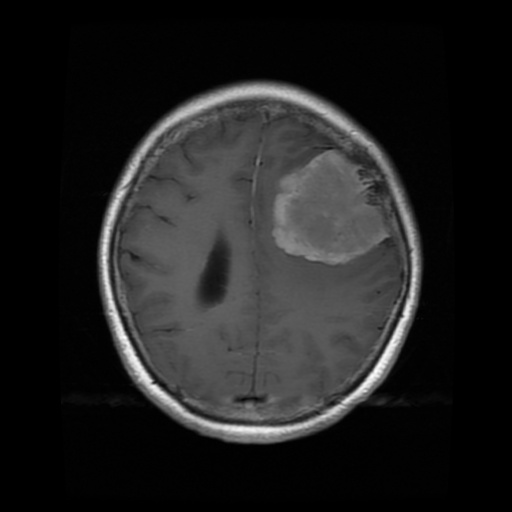meningioma: (272, 148, 391, 265)
